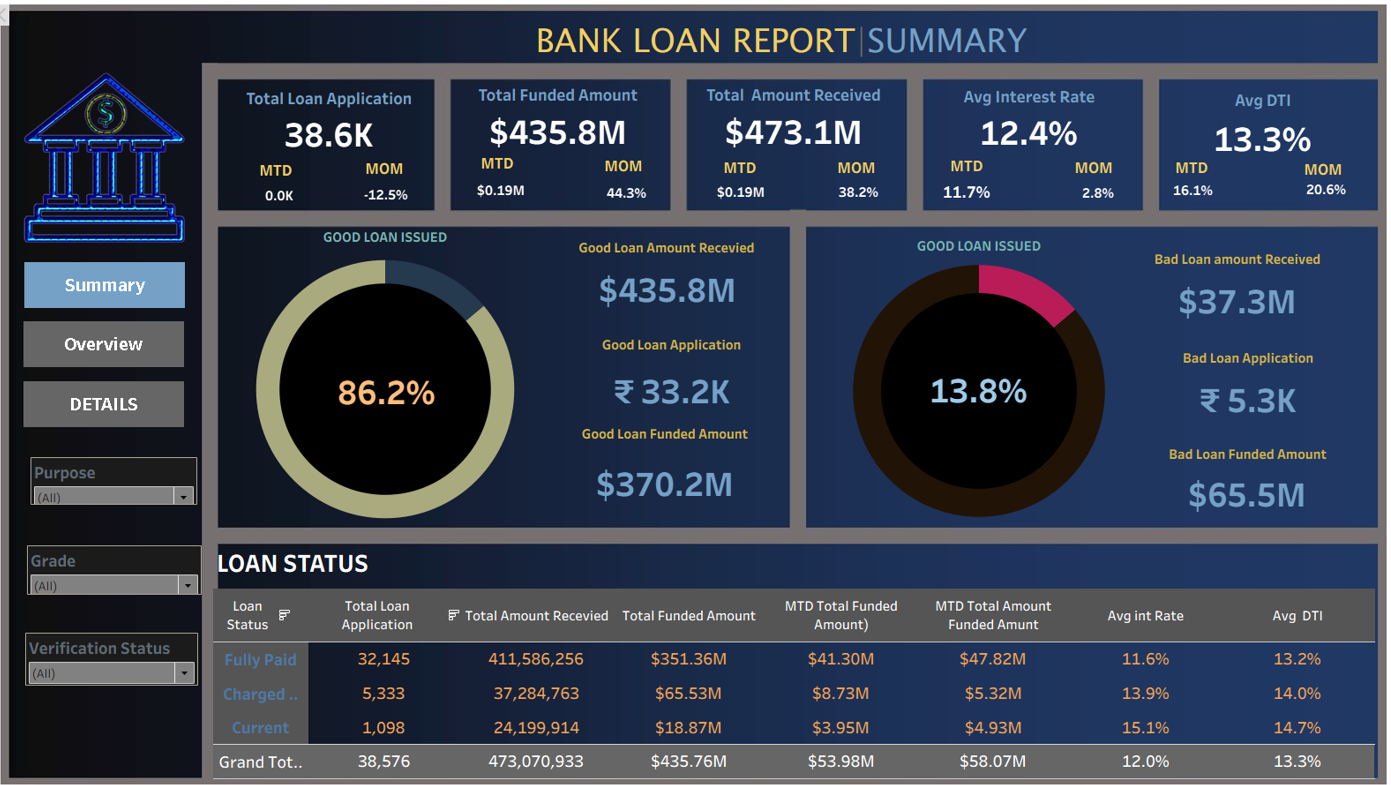

The page's visual inventory and layout, read from the dashboard file:
{"tool":"tableau","page":{"name":"Summary","canvas":[1600,900],"ordinal":1},"visuals":[{"type":"dashboard-object","box":[0,8,24,24]},{"type":"image","param":"D:/photos/Tableau Background 1.jpg","box":[8,8,1584,884]},{"type":"text","box":[617,19,575,61]},{"type":"worksheet","title":"Total Funded Amount","mark":"Automatic","box":[523,93,246,77]},{"type":"worksheet","title":"Total  Amount Received","mark":"Automatic","box":[790,93,246,77]},{"type":"worksheet","title":"MTD Avg INT Rate","mark":"Automatic","box":[1055,95,250,75]},{"type":"worksheet","title":"Total Loan Application","mark":"Automatic","box":[265,97,243,75]},{"type":"worksheet","title":"Avg DTI","mark":"Automatic","box":[1325,99,240,81]},{"type":"text","box":[527,172,100,30]},{"type":"text","box":[670,175,100,30]},{"type":"text","box":[1059,175,100,30]},{"type":"text","box":[398,177,102,32]},{"type":"text","box":[802,177,100,30]},{"type":"text","box":[934,177,100,30]},{"type":"text","box":[1203,177,100,30]},{"type":"text","box":[1314,177,100,30]},{"type":"text","box":[1463,179,100,30]},{"type":"text","box":[276,180,100,30]},{"type":"worksheet","title":"MTD Total Funded Amount","mark":"Automatic","box":[538,201,87,35]},{"type":"worksheet","title":"MOM avg DTI","mark":"Automatic","box":[1475,203,83,30]},{"type":"worksheet","title":"MOM  Total Amount Recevied","mark":"Automatic","box":[948,204,78,34]},{"type":"worksheet","title":"MTD Avg DTI","mark":"Automatic","box":[1328,204,75,30]},{"type":"worksheet","title":"MTD Total Amount Recevied","mark":"Automatic","box":[784,205,139,31]},{"type":"worksheet","title":"Avg Interest Rate","mark":"Automatic","box":[1062,205,94,31]},{"type":"worksheet","title":"MOM Loan Applications","mark":"Automatic","box":[407,206,89,36]},{"type":"worksheet","title":"MTD Total Loan Application","mark":"Automatic","box":[267,207,126,36]},{"type":"worksheet","title":"MOM AVG int Rate","mark":"Automatic","box":[1217,207,83,29]},{"type":"worksheet","title":"MOM Total Funded Amount","mark":"Automatic","box":[685,208,78,28]},{"type":"worksheet","title":"good loan","mark":"Pie","rows":["Calculation_43065724828413960","Calculation_43065724828413960"],"box":[247,257,406,338]},{"type":"worksheet","title":"Bad Loan Issue","mark":"Pie","rows":["Calculation_43065724828413960","Calculation_43065724828413960"],"box":[938,267,370,322]},{"type":"worksheet","title":"Good Loan Amount Recevied ","mark":"Automatic","box":[642,269,257,87]},{"type":"worksheet","title":"Bad Loan amount Received","mark":"Automatic","box":[1277,282,278,87]},{"type":"worksheet","title":"Good Loan Application","mark":"Automatic","box":[646,379,257,97]},{"type":"worksheet","title":"Bad Loan Application","mark":"Automatic","box":[1307,394,242,86]},{"type":"worksheet","title":"good lan Application %","mark":"Automatic","box":[361,408,181,77]},{"type":"worksheet","title":"Bad Loan person","mark":"Automatic","box":[1015,409,215,71]},{"type":"worksheet","title":"Good Loan Funded Amount","mark":"Automatic","box":[635,480,264,105]},{"type":"worksheet","title":"Bad Loan Funded Amount","mark":"Automatic","box":[1303,503,249,83]},{"type":"filter","title":"good loan","param":"[federated.1hbrnce1x73st8143nhxq0bro3fb].[none:purpose:nk]","box":[48,521,189,54]},{"type":"worksheet","title":"LOAN STATUS","mark":"Automatic","rows":["loan_status"],"box":[255,618,1317,268]},{"type":"filter","title":"good loan","param":"[federated.1hbrnce1x73st8143nhxq0bro3fb].[none:grade:nk]","box":[44,621,198,56]},{"type":"filter","title":"good loan","param":"[federated.1hbrnce1x73st8143nhxq0bro3fb].[none:verification_status:nk]","box":[42,720,196,60]}]}

Visuals, with their boxes in screenshot pixels (x1, y1, x2, y2), scaled from the page's 1600x900 canvas onto the 1391x785 screenshot:
dashboard-object: [0,7,21,28]
image: [7,7,1384,778]
text: [536,17,1036,70]
"Total Funded Amount" worksheet: [455,81,669,148]
"Total  Amount Received" worksheet: [687,81,901,148]
"MTD Avg INT Rate" worksheet: [917,83,1135,148]
"Total Loan Application" worksheet: [230,85,442,150]
"Avg DTI" worksheet: [1152,86,1361,157]
text: [458,150,545,176]
text: [582,153,669,179]
text: [921,153,1008,179]
text: [346,154,435,182]
text: [697,154,784,181]
text: [812,154,899,181]
text: [1046,154,1133,181]
text: [1142,154,1229,181]
text: [1272,156,1359,182]
text: [240,157,327,183]
"MTD Total Funded Amount" worksheet: [468,175,543,206]
"MOM avg DTI" worksheet: [1282,177,1354,203]
"MOM  Total Amount Recevied" worksheet: [824,178,892,208]
"MTD Avg DTI" worksheet: [1155,178,1220,204]
"MTD Total Amount Recevied" worksheet: [682,179,802,206]
"Avg Interest Rate" worksheet: [923,179,1005,206]
"MOM Loan Applications" worksheet: [354,180,431,211]
"MTD Total Loan Application" worksheet: [232,181,342,212]
"MOM AVG int Rate" worksheet: [1058,181,1130,206]
"MOM Total Funded Amount" worksheet: [596,181,663,206]
"good loan" worksheet (Pie marks): [215,224,568,519]
"Bad Loan Issue" worksheet (Pie marks): [815,233,1137,514]
"Good Loan Amount Recevied " worksheet: [558,235,782,311]
"Bad Loan amount Received" worksheet: [1110,246,1352,322]
"Good Loan Application" worksheet: [562,331,785,415]
"Bad Loan Application" worksheet: [1136,344,1347,419]
"good lan Application %" worksheet: [314,356,471,423]
"Bad Loan person" worksheet: [882,357,1069,419]
"Good Loan Funded Amount" worksheet: [552,419,782,510]
"Bad Loan Funded Amount" worksheet: [1133,439,1349,511]
"good loan" filter: [42,454,206,502]
"LOAN STATUS" worksheet: [222,539,1367,773]
"good loan" filter: [38,542,210,590]
"good loan" filter: [37,628,207,680]
